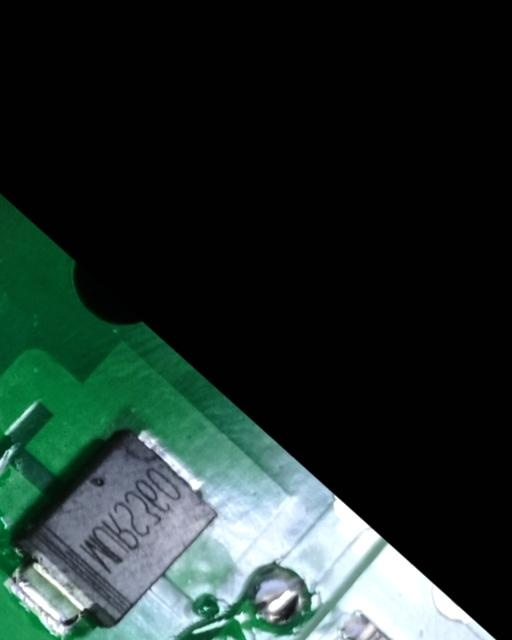diode: (0, 412, 234, 640)
